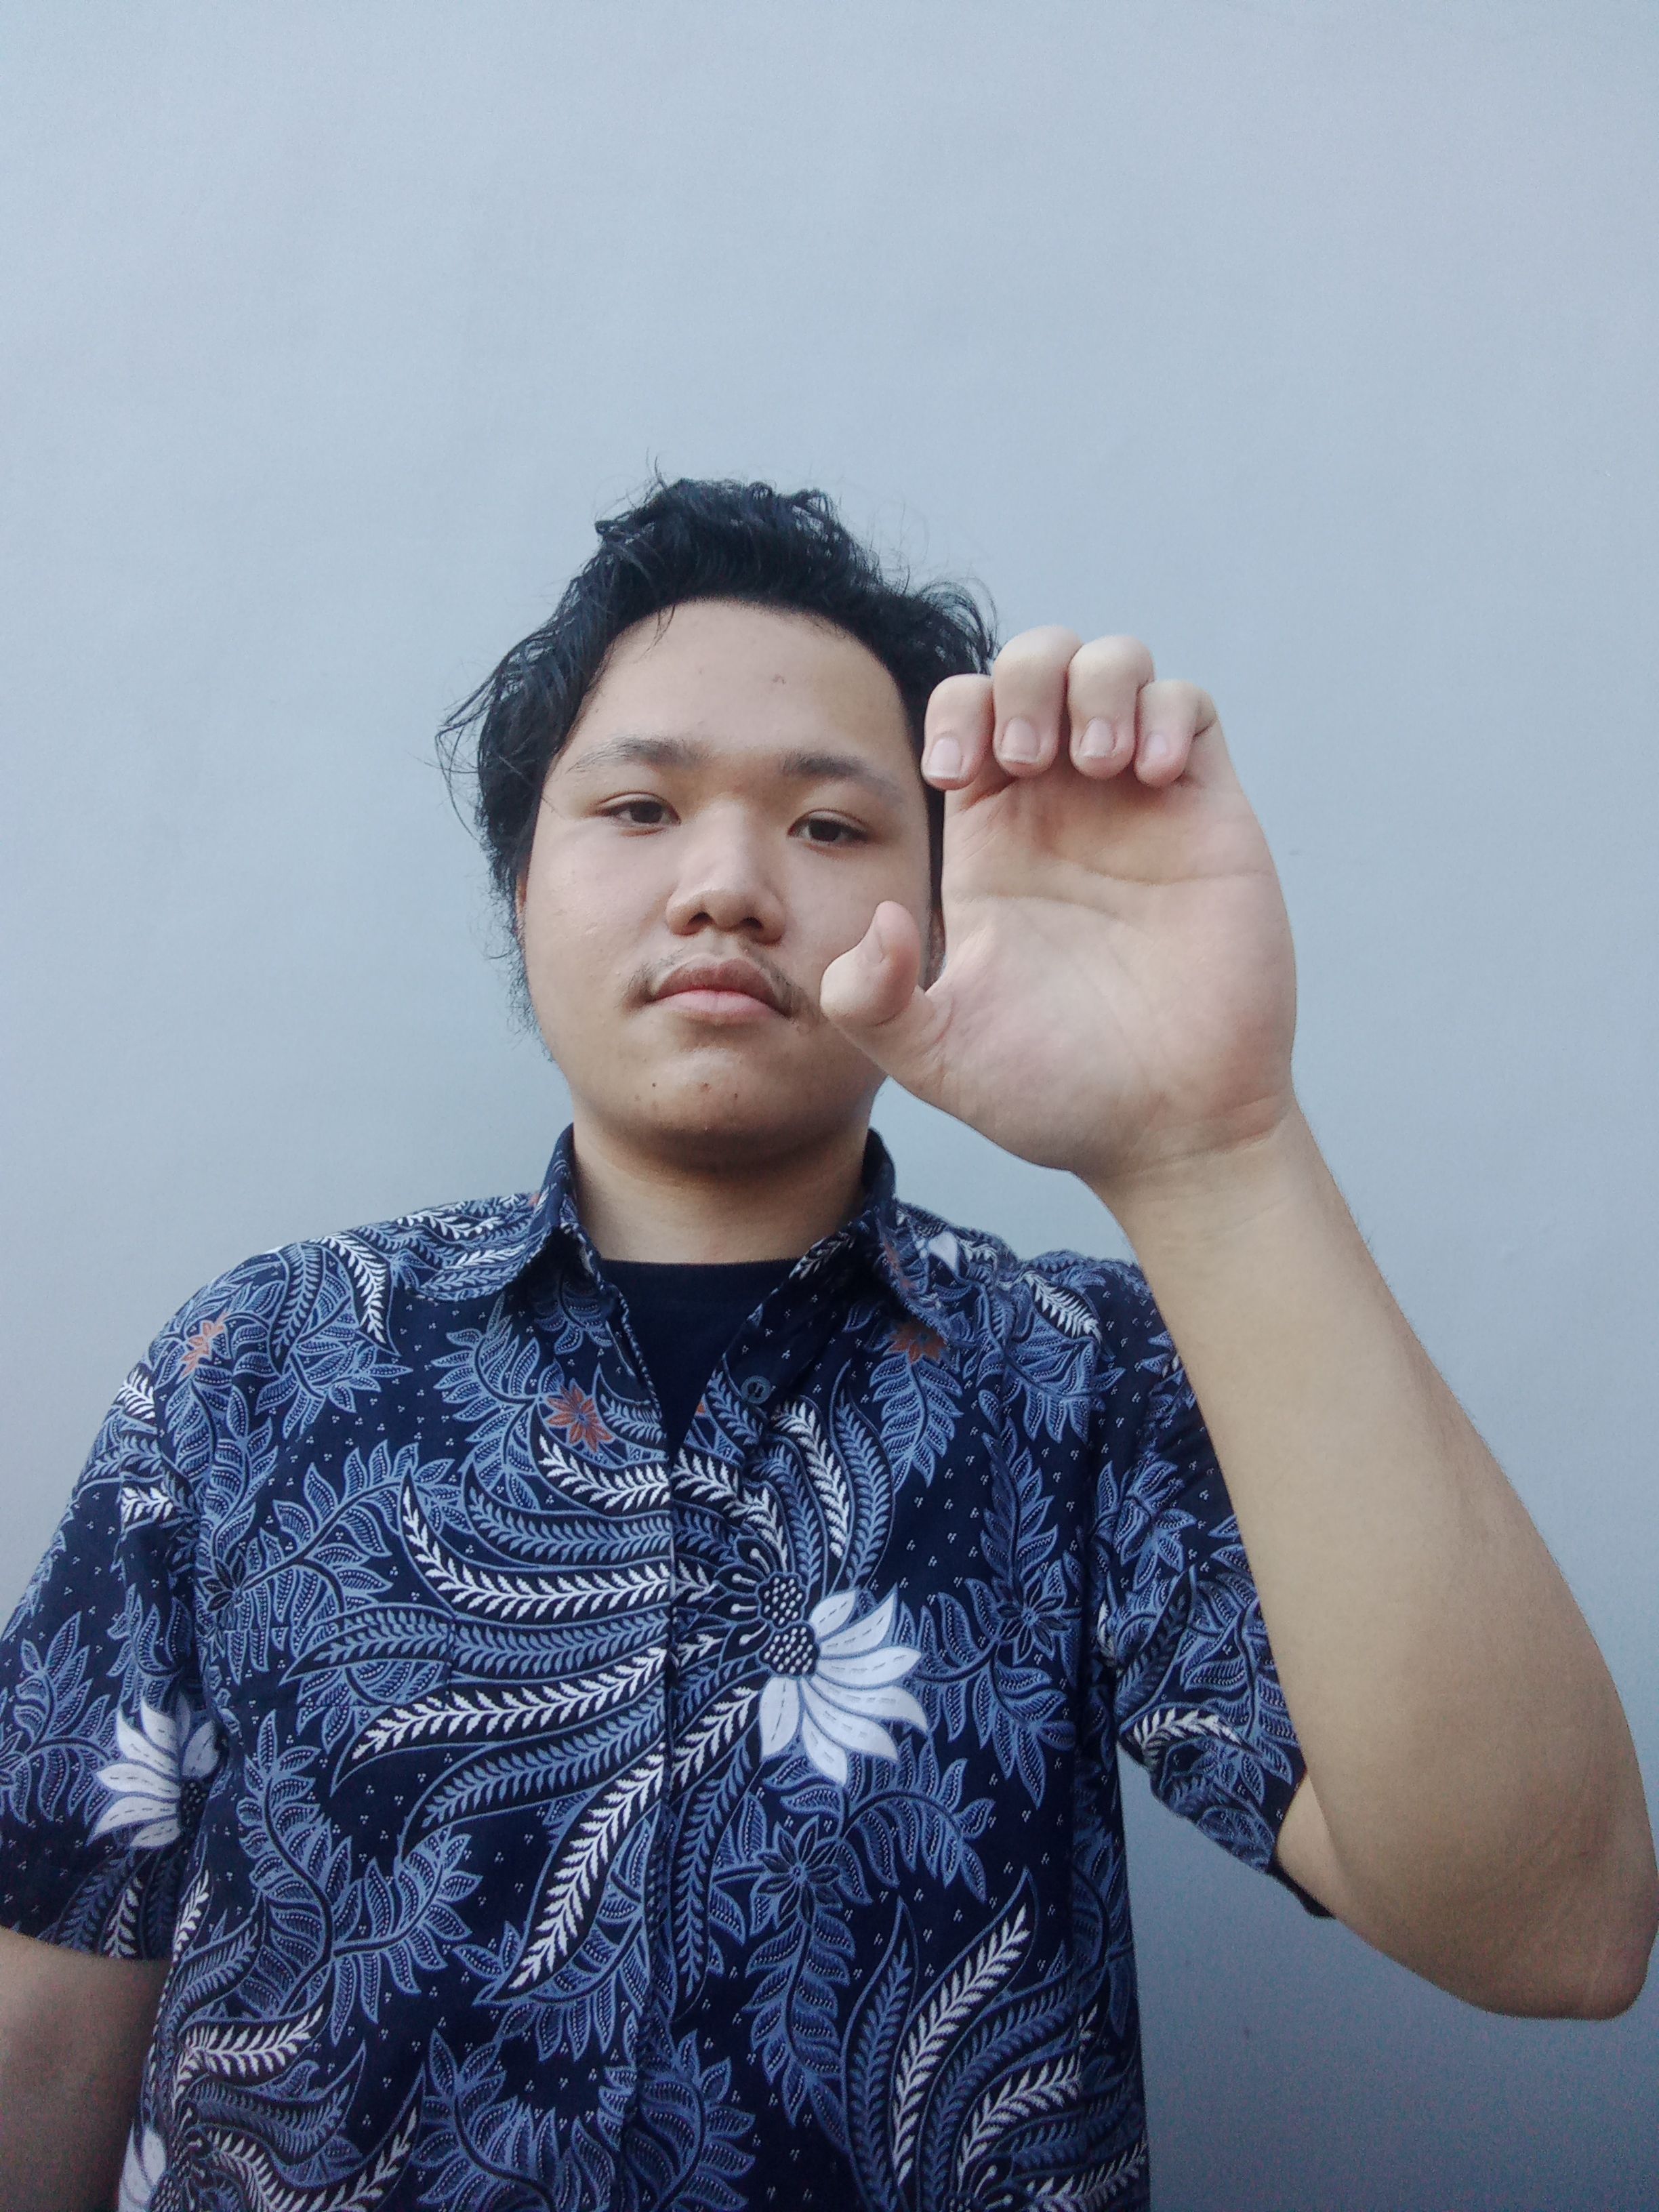E: (814, 608, 1398, 1224)
